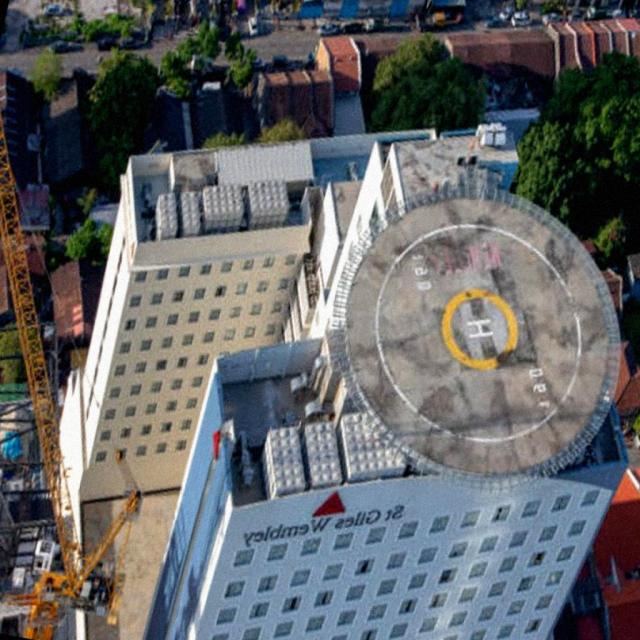helipad: (438, 282, 521, 372)
